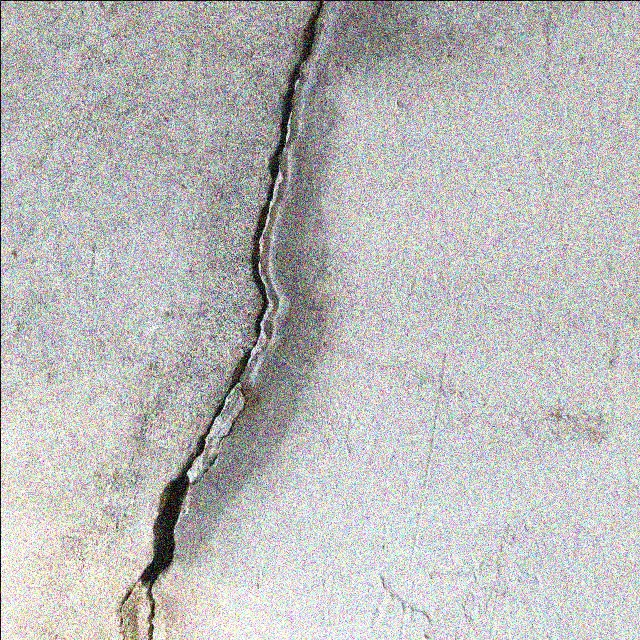SurfaceCrack: (95, 0, 372, 640)
